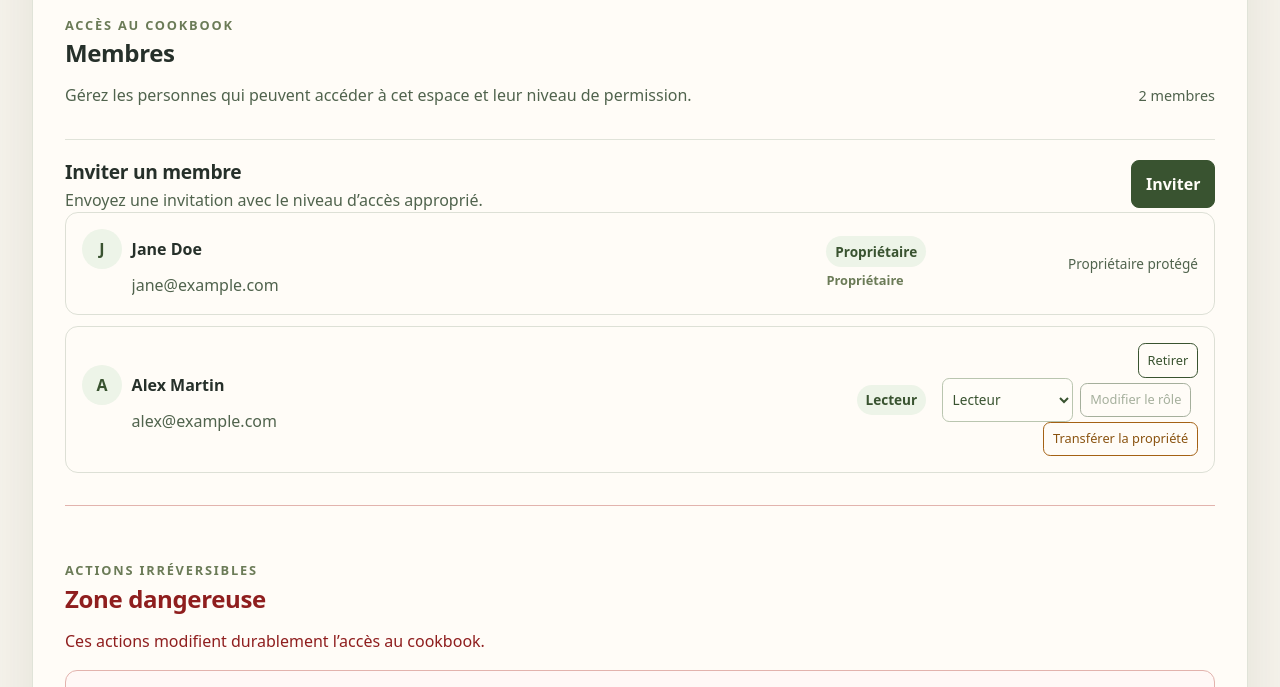
Test: CookbookView › confirms removing a member, refreshes the list and announces authorization errors
This screenshot has width=1280, height=687.
(page scrolled)
Click the button with class "member-remove-button" at (1168, 361), box [1138,343,1198,378]
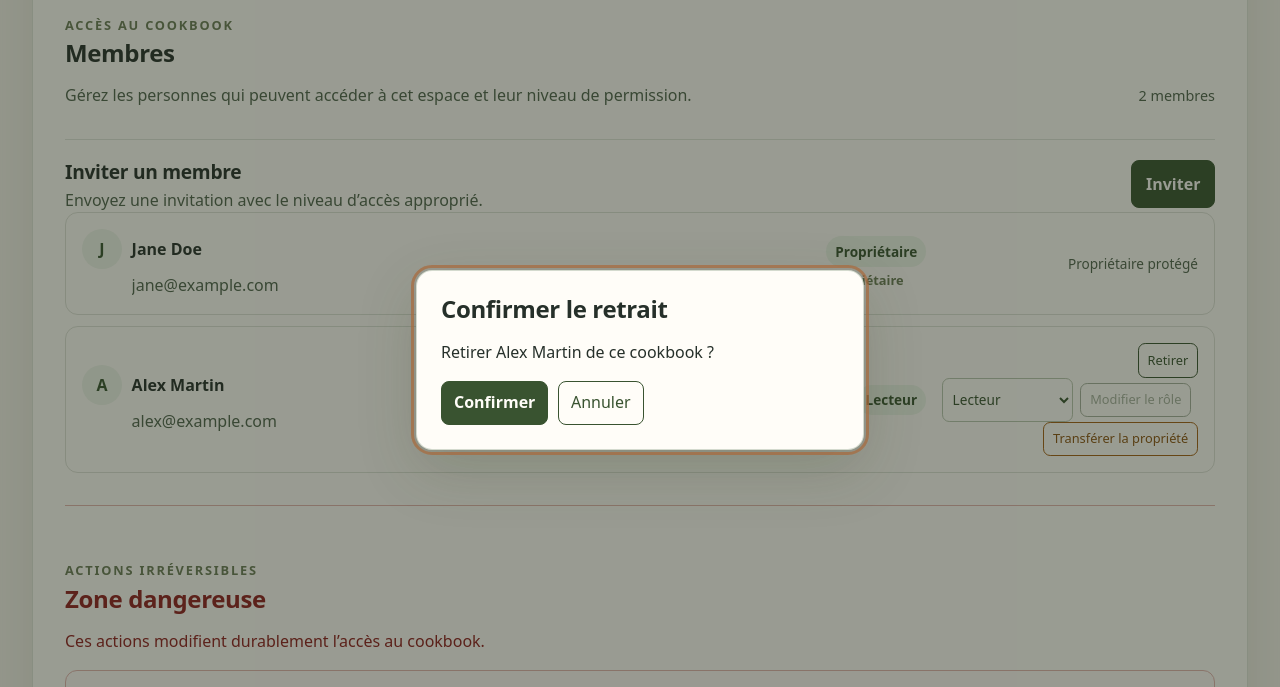
Check: the dialog shows "Alex Martin", box [441,341,714,363]
Click the button with class "edit-button" at (495, 403), box [441,381,548,425]
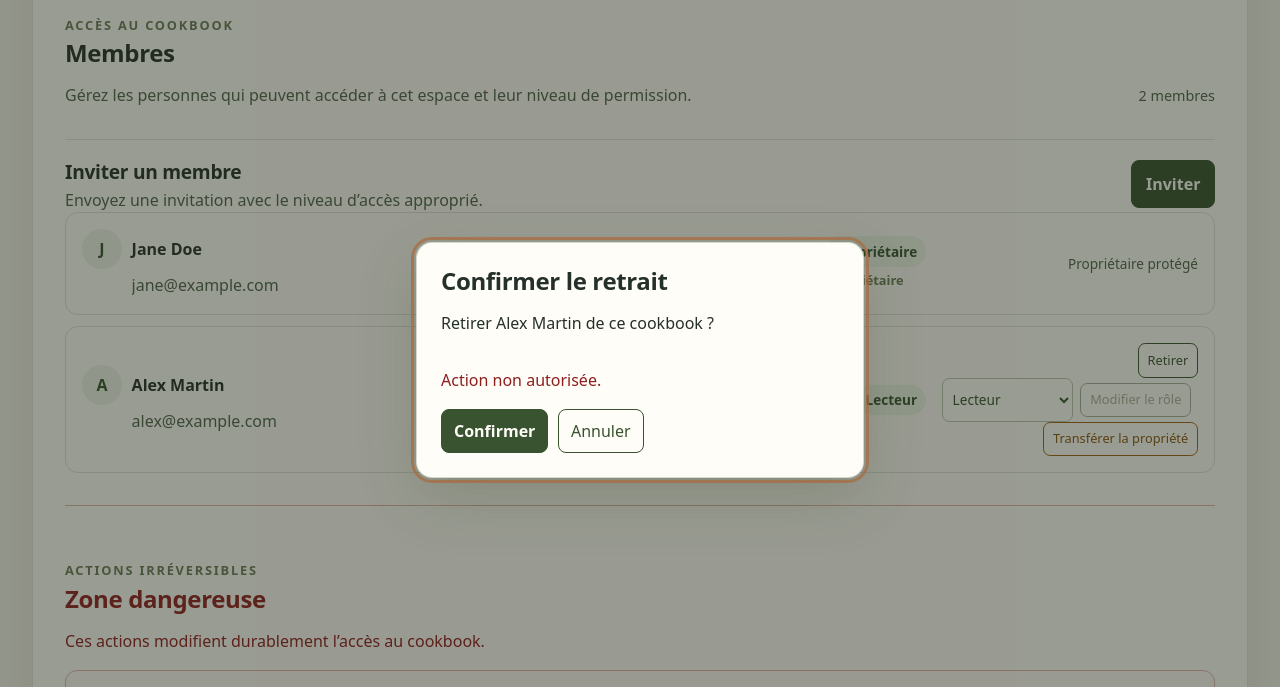
Check: the message "Action non autorisée." is shown, box [441,369,601,391]
Click the button with class "cancel-button" at (601, 431), box [558,409,644,453]
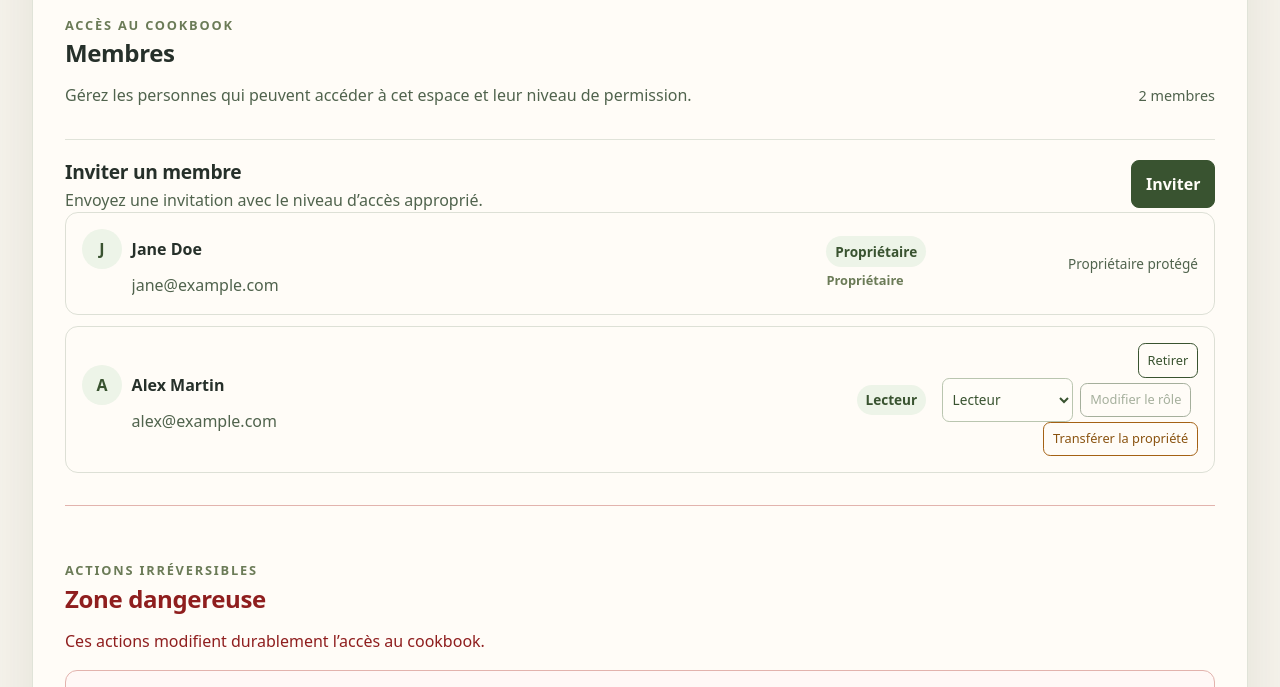
Click the button with class "member-remove-button" at (1168, 361), box [1138,343,1198,378]
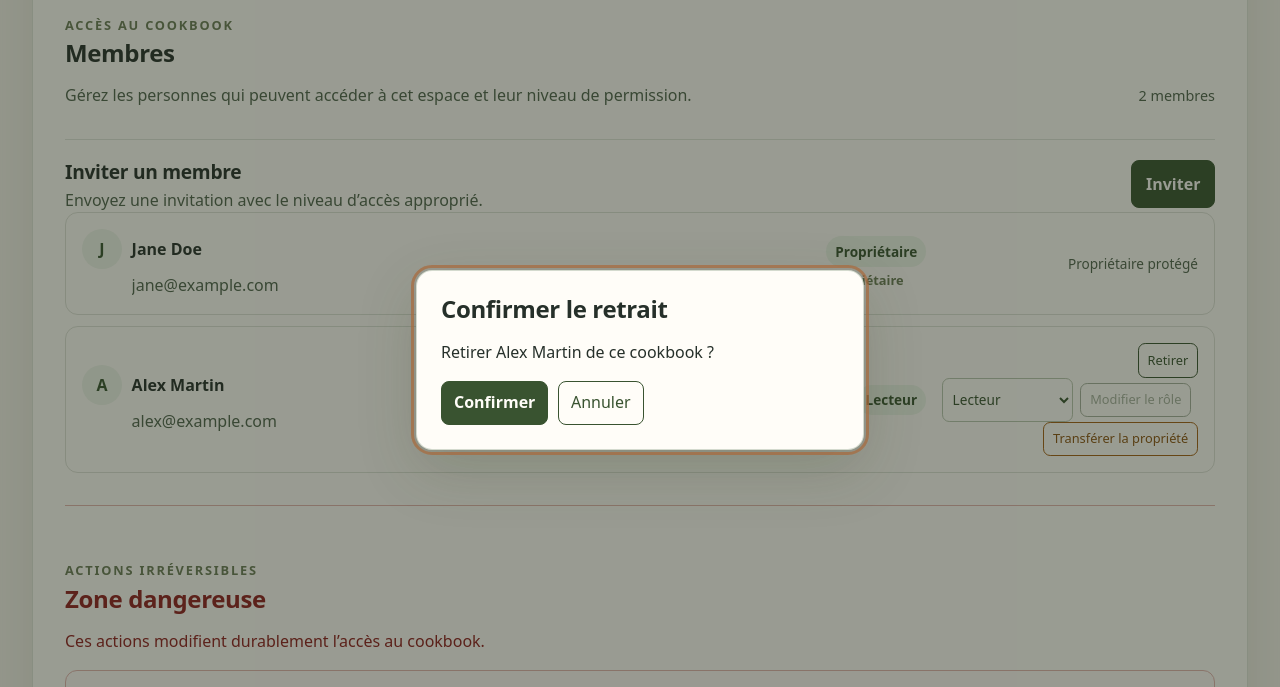
Click the button with class "edit-button" at (495, 403), box [441,381,548,425]
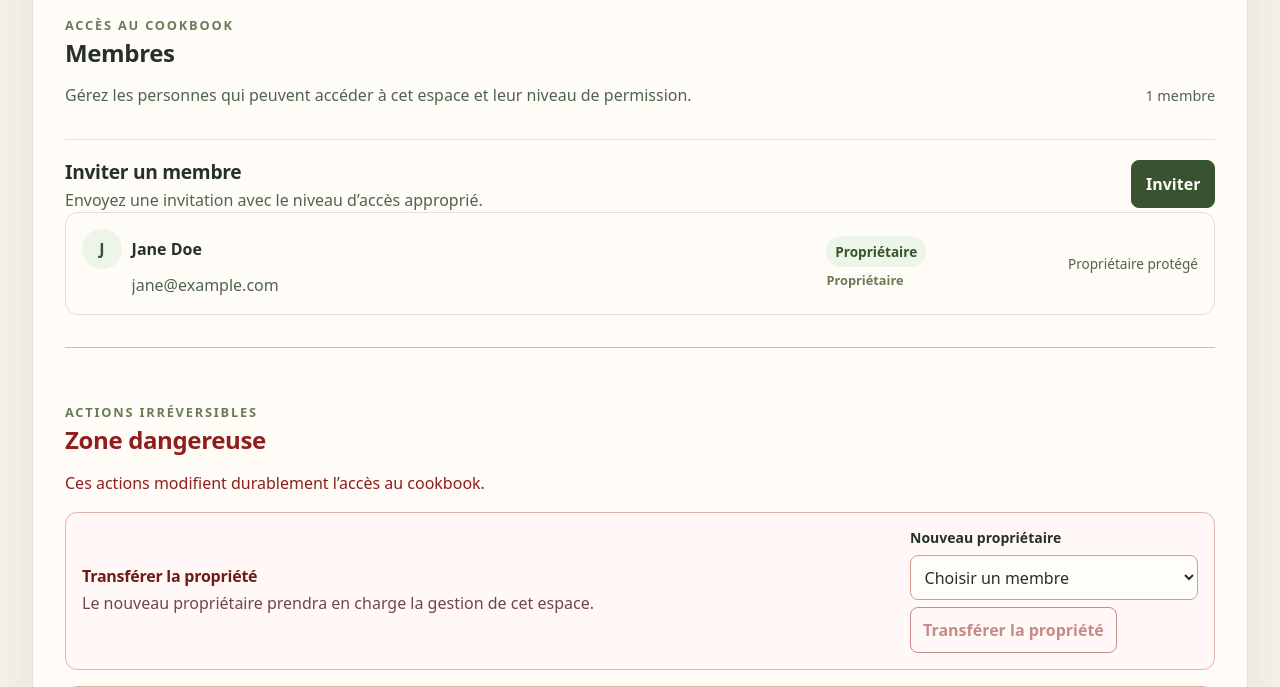
Check: the text "Alex Martin" is gone
